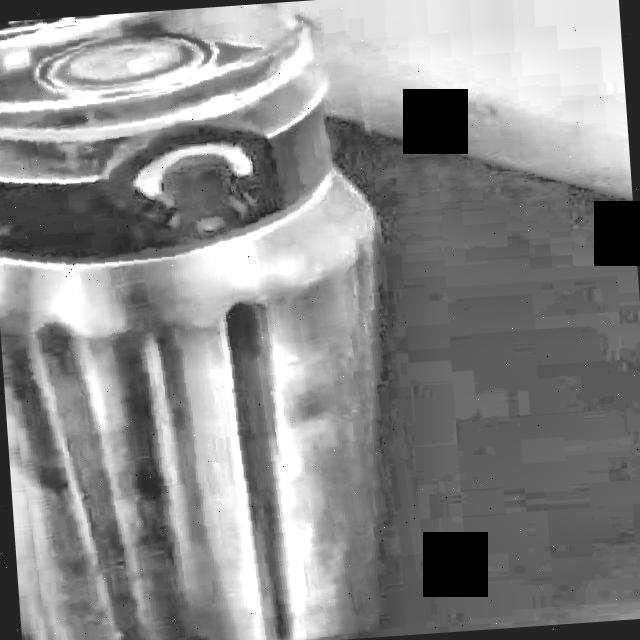bottle: (0, 4, 381, 640)
